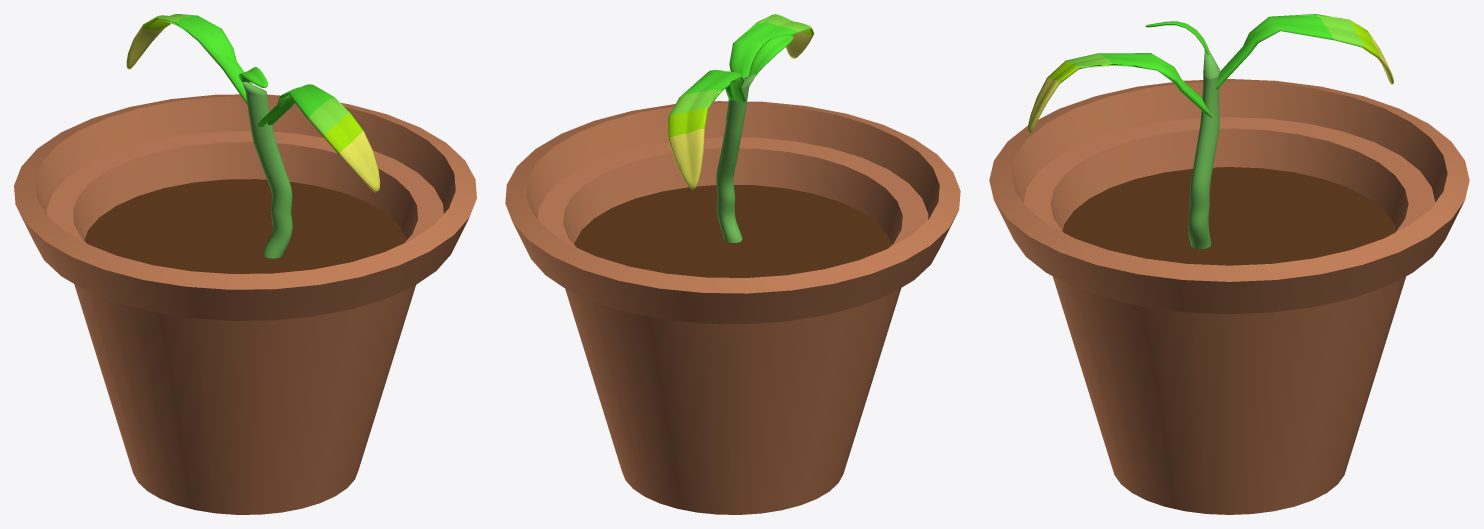
Rendered from dyingYoungPlant.fbx.
3 renders of one model, left to right at view 1: azimuth 30°, elevation 25°; view 2: azimuth 150°, elevation 25°; view 3: azimuth 270°, elevation 25°, orthographic. The views are drawn at different scales.
Parts seen in each view (by area): view 1: Plant Pot, Plane.001, Cylinder.001, Plane.003; view 2: Plant Pot, Plane.003, Cylinder.001, Plane.001, Plane.002; view 3: Plant Pot, Cylinder.001, Plane.003, Plane.001.
Part boxes in pixels (x1,y1,x2,y2): Plant Pot: (14,94,476,514); Plane.001: (258,84,380,192); Cylinder.001: (242,82,292,258); Plane.003: (126,14,252,104); Plant Pot: (505,101,960,514); Plane.003: (668,70,745,189); Cylinder.001: (716,74,756,242); Plane.001: (726,14,813,120); Plane.002: (749,34,793,75); Plant Pot: (989,79,1469,514); Cylinder.001: (1188,49,1219,249); Plane.003: (1215,14,1393,89); Plane.001: (1027,53,1212,133).
Size of the model in its own units: 535 by 543 by 535.
